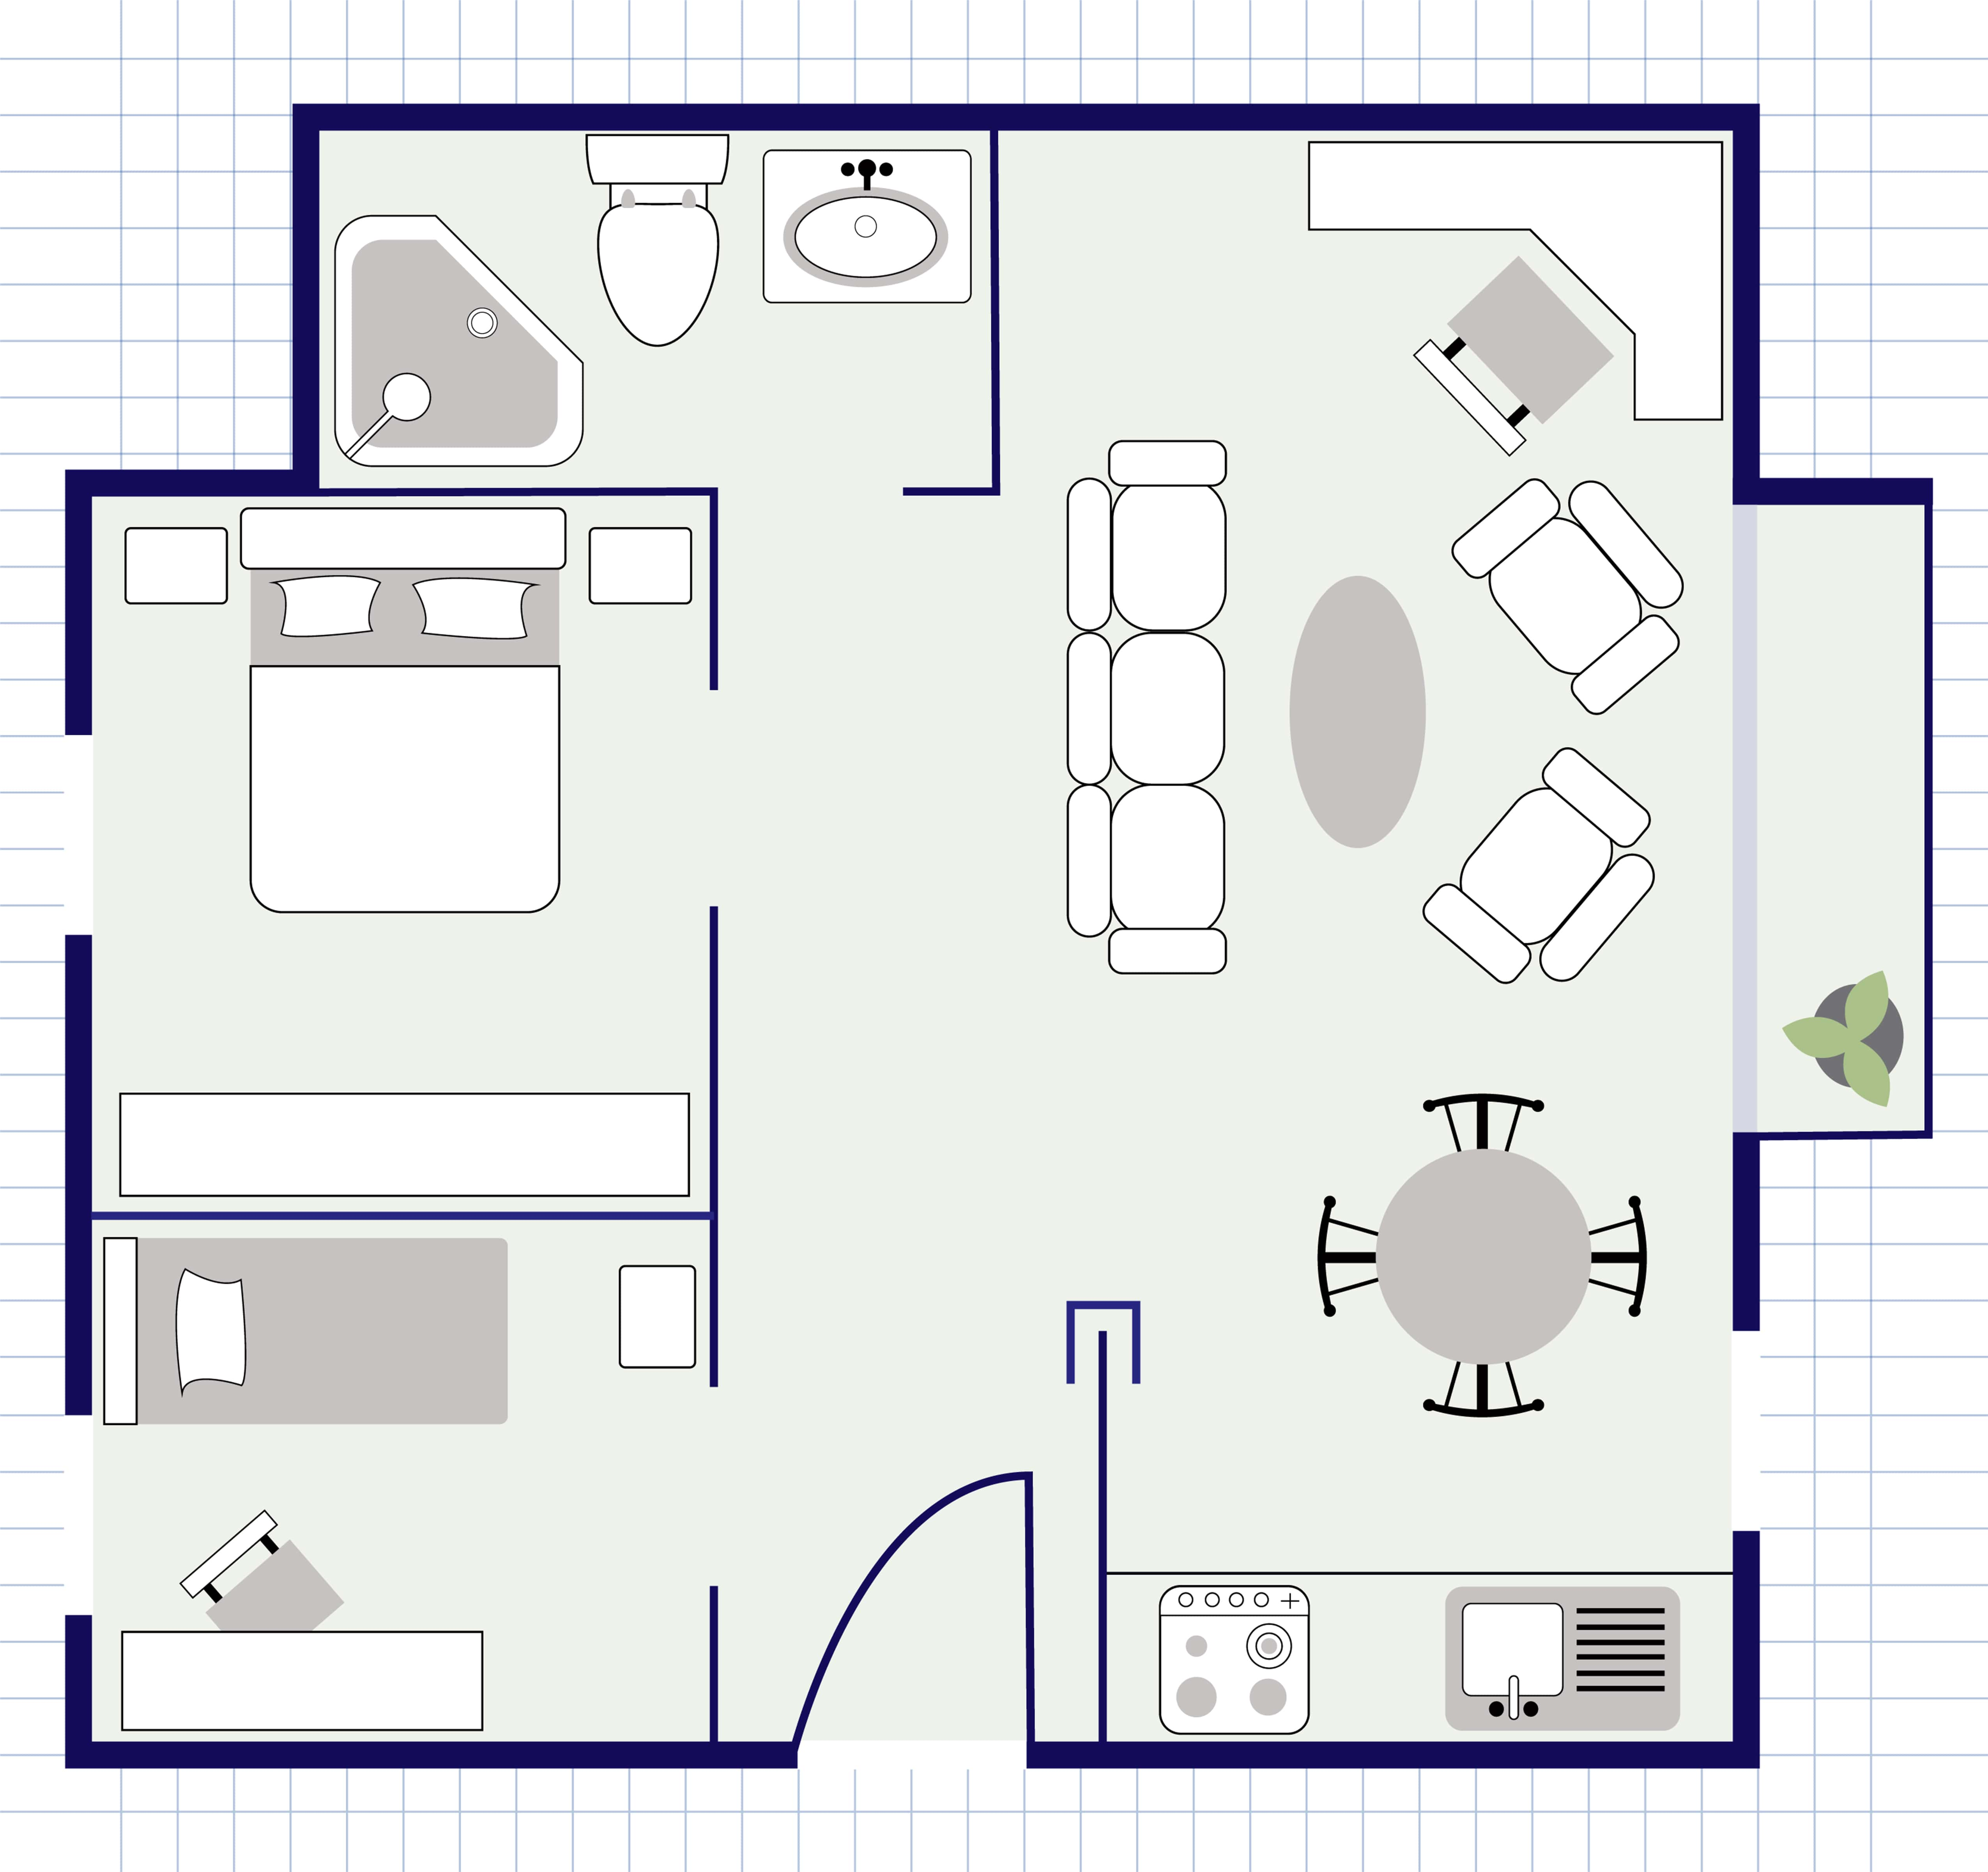wall: (303, 116, 992, 123), (99, 1758, 779, 1763), (320, 484, 716, 493), (299, 116, 308, 484), (996, 120, 1754, 123), (1040, 1742, 1758, 1745), (74, 1221, 720, 1225), (1750, 486, 1928, 498), (713, 908, 716, 1388), (77, 473, 299, 480), (1750, 1547, 1754, 1749), (77, 1619, 81, 1763), (1745, 1140, 1930, 1142)
